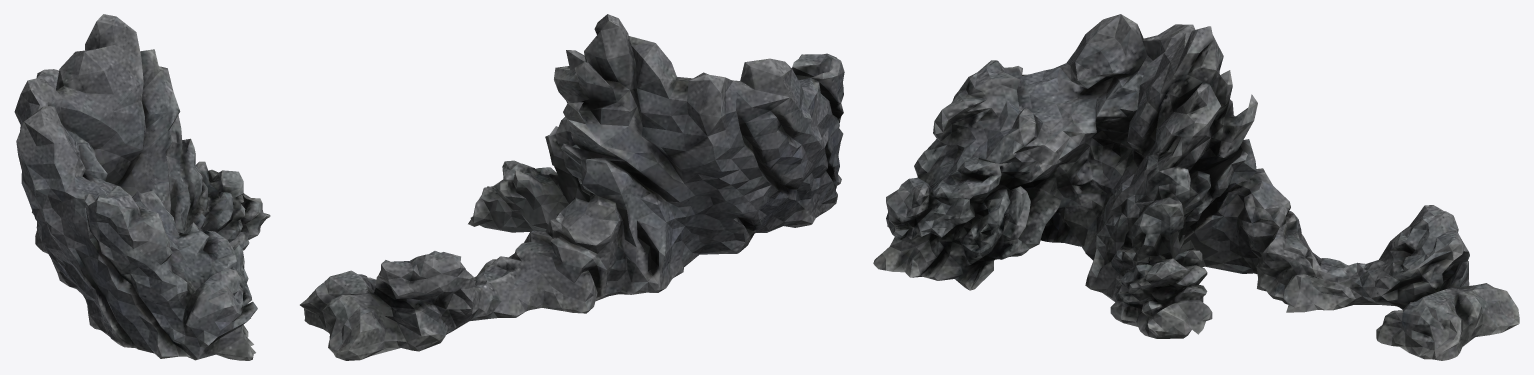
File: seiryu-2.glb
The picture shows the model from 3 angles, left to right: view 1: azimuth 30°, elevation 25°; view 2: azimuth 150°, elevation 25°; view 3: azimuth 270°, elevation 25°; orthographic projection. The views are drawn at different scales.
Visible parts, largest first — view 1: tripo_node_c0c2cd42-5bfe-4e78-9bf1-92d15f126ae8; view 2: tripo_node_c0c2cd42-5bfe-4e78-9bf1-92d15f126ae8; view 3: tripo_node_c0c2cd42-5bfe-4e78-9bf1-92d15f126ae8.
Boxes of the visible parts, <box> form: tripo_node_c0c2cd42-5bfe-4e78-9bf1-92d15f126ae8: <box>14,14,270,360</box>; tripo_node_c0c2cd42-5bfe-4e78-9bf1-92d15f126ae8: <box>300,14,844,360</box>; tripo_node_c0c2cd42-5bfe-4e78-9bf1-92d15f126ae8: <box>873,14,1519,360</box>.
Bounding box in the file's own units: 0.5656 × 0.4227 × 0.9961.
1 material, 1 textured.
